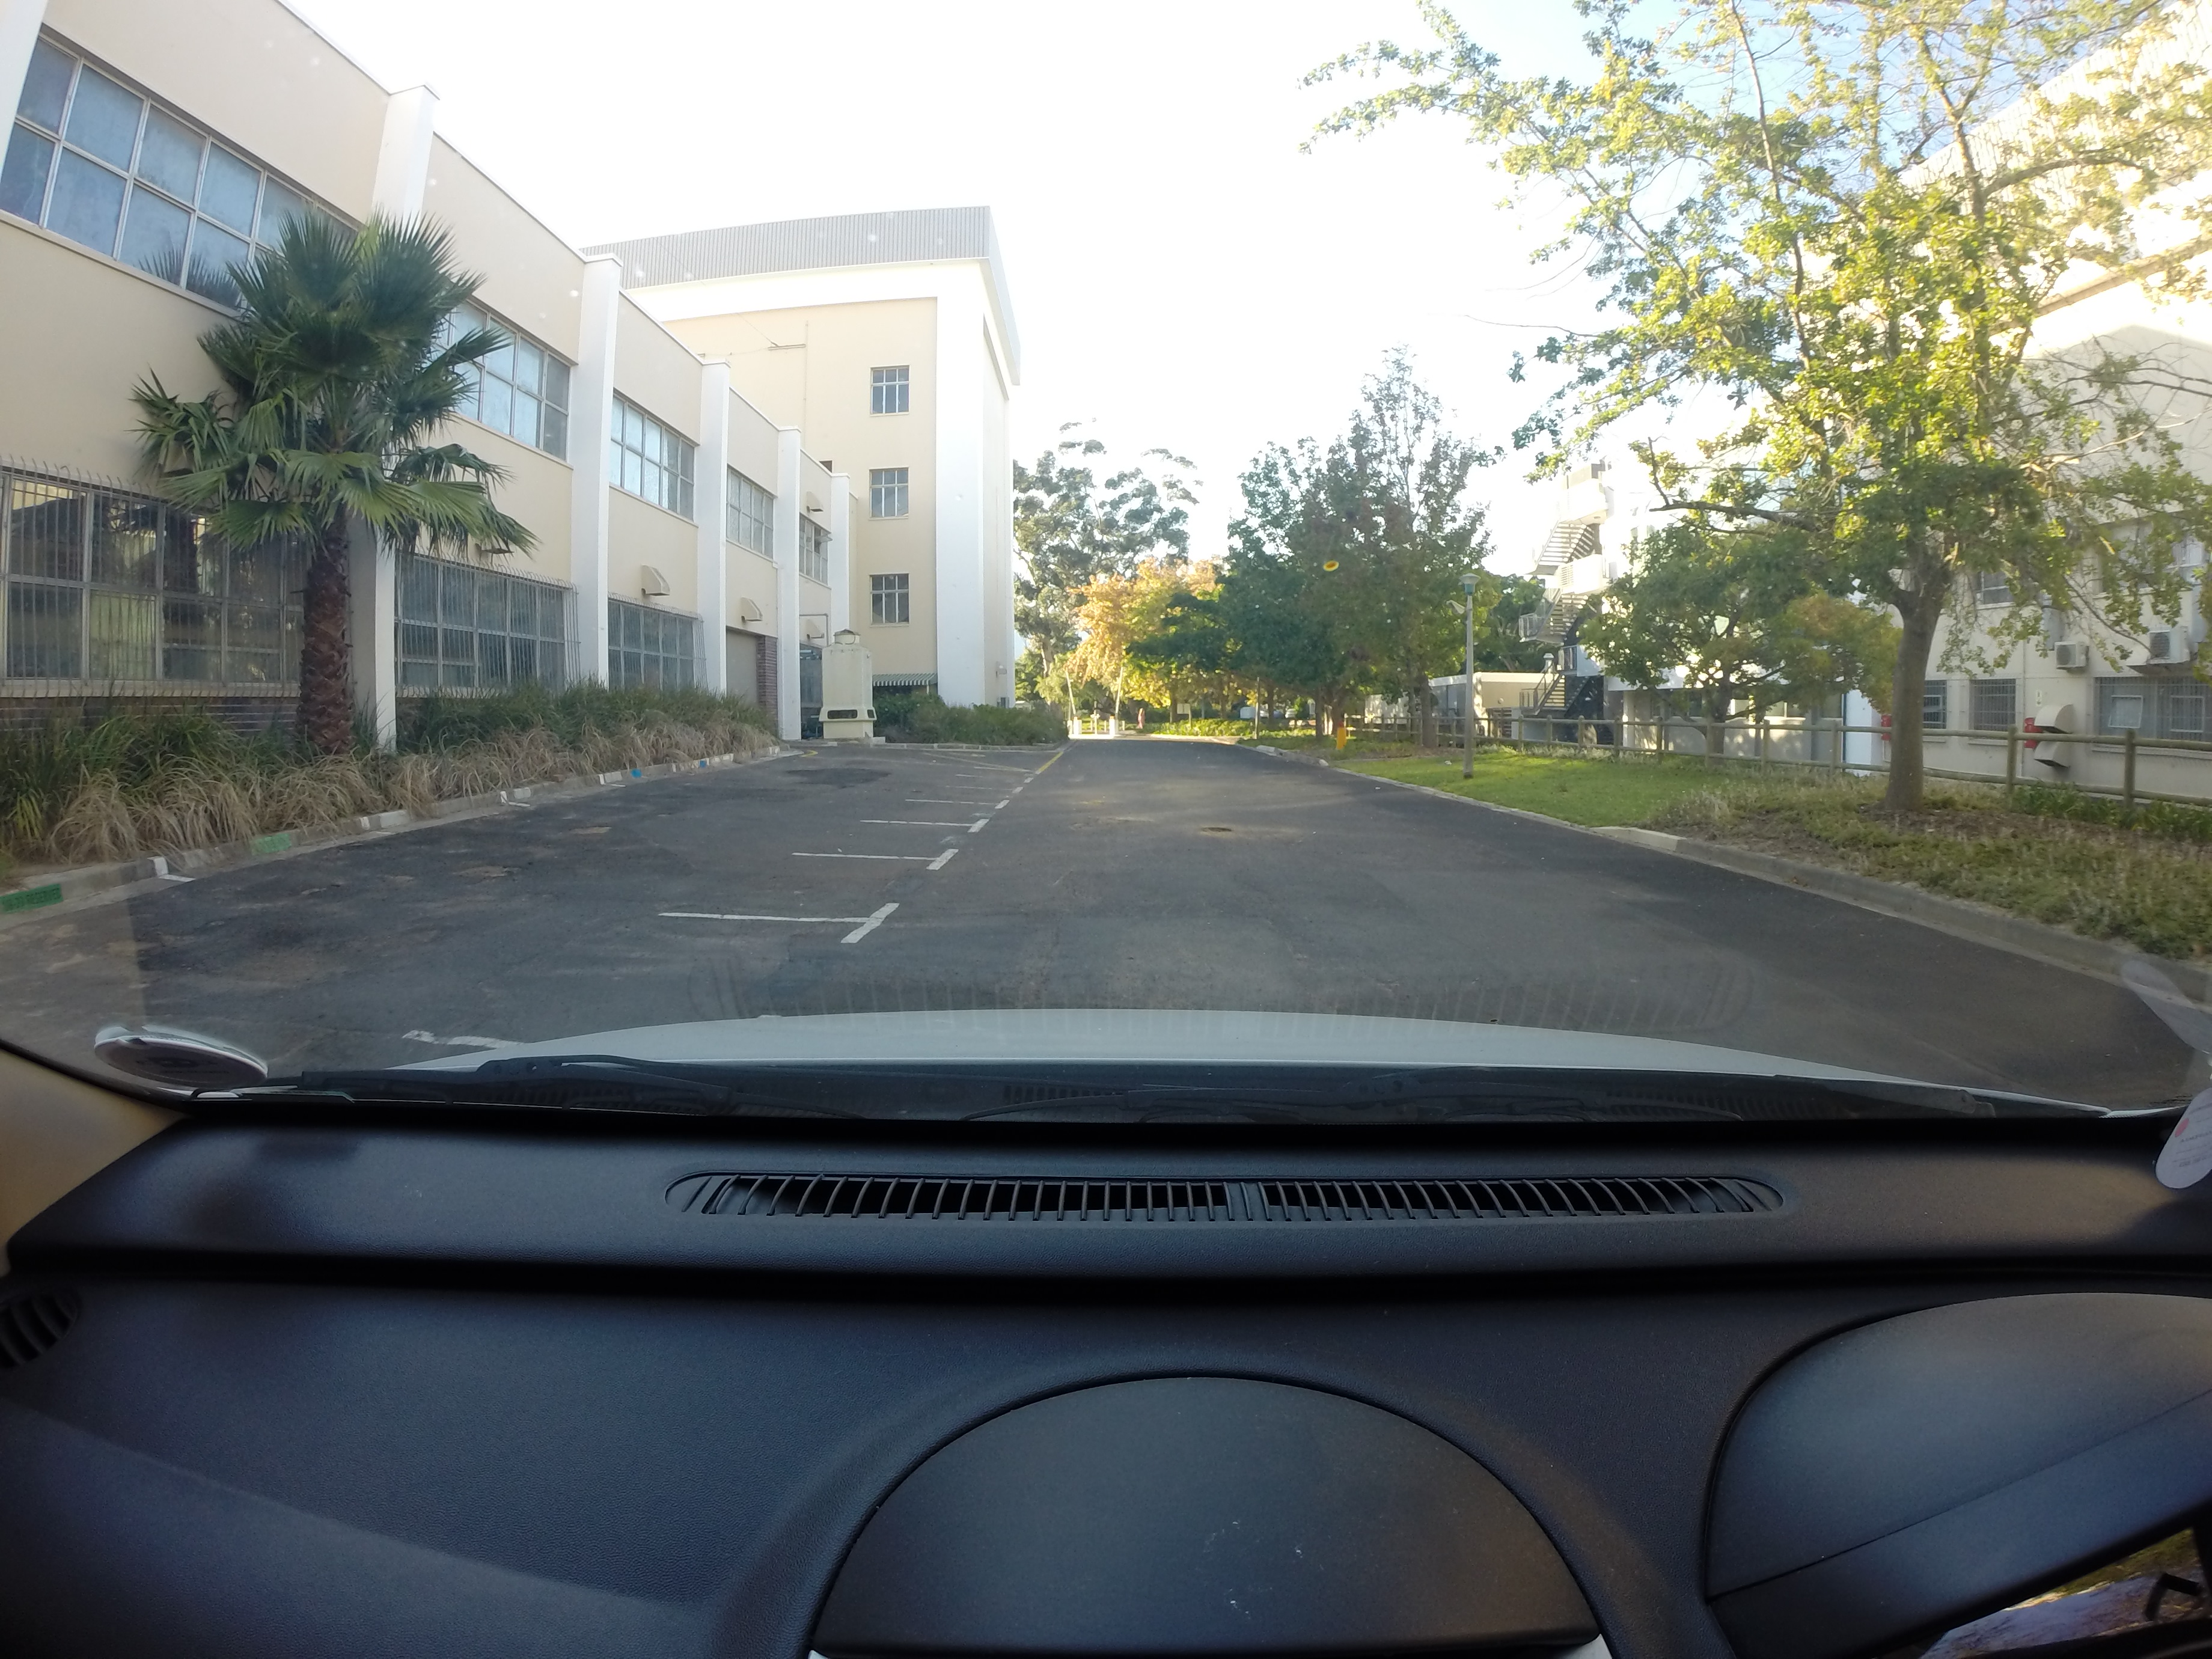pothole: (449, 856, 542, 889)
